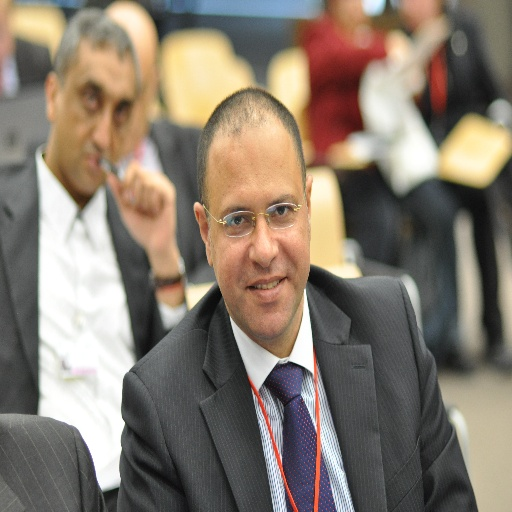hand: (104, 145, 190, 274)
